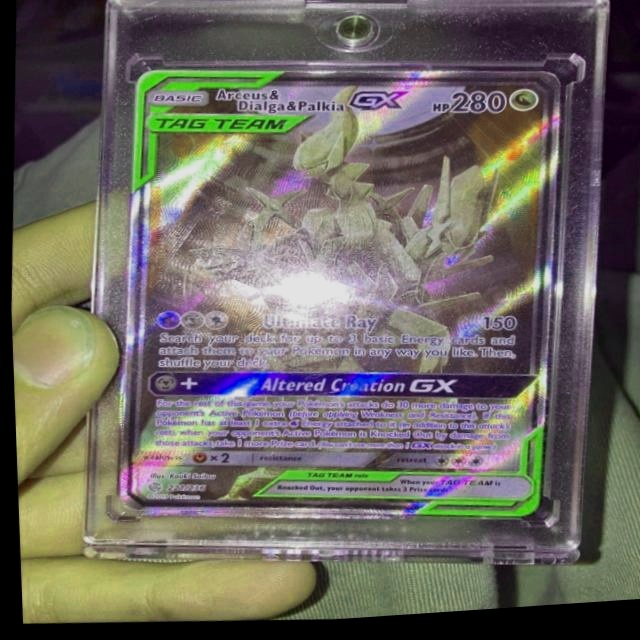card: (112, 70, 561, 528)
